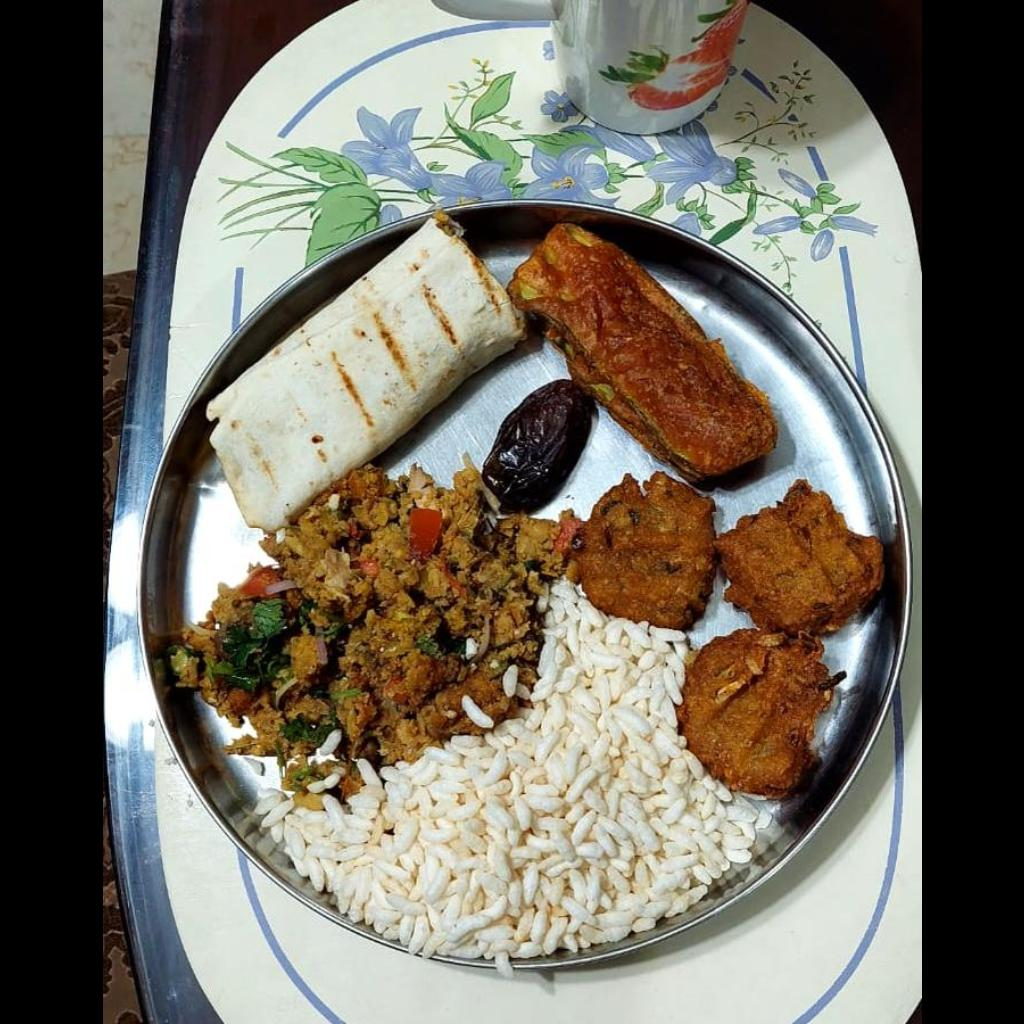beguni: (510, 228, 765, 477)
chola: (176, 462, 568, 773)
dates: (489, 379, 588, 508)
payesh: (587, 477, 885, 784)
puffed-rice: (257, 579, 774, 966)
roll: (206, 214, 524, 531)
